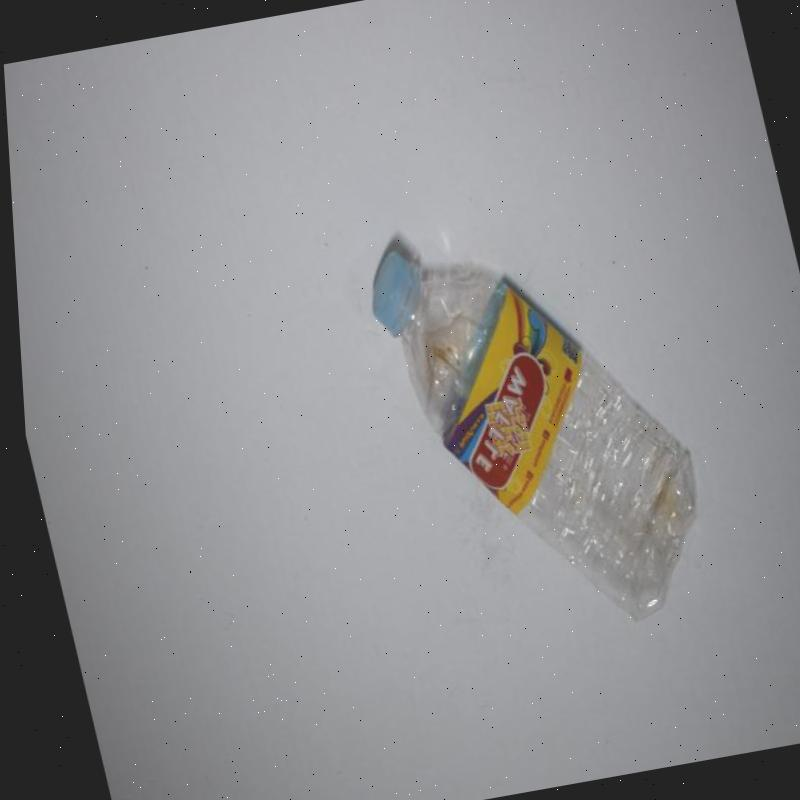botella: (352, 202, 723, 656)
